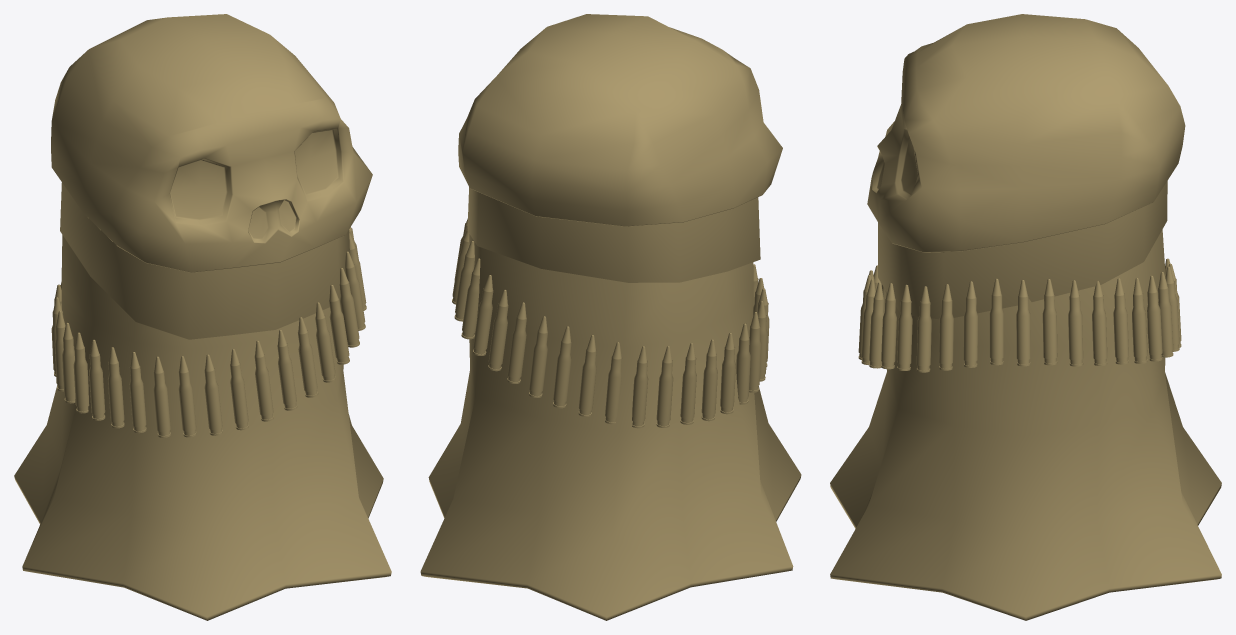
File: player_haunted.fbx
3 renders of one model, left to right at view 1: azimuth 30°, elevation 25°; view 2: azimuth 150°, elevation 25°; view 3: azimuth 270°, elevation 25°, orthographic.
Visible parts, largest first — view 1: polySurface6, Main_Body1, group2; view 2: Main_Body1, polySurface6, group2; view 3: Main_Body1, polySurface6, group2.
Boxes of the visible parts, bbox=[...] form: polySurface6: bbox=[51, 14, 372, 339]; Main_Body1: bbox=[14, 235, 391, 620]; group2: bbox=[51, 227, 366, 437]; Main_Body1: bbox=[420, 234, 801, 620]; polySurface6: bbox=[458, 14, 782, 282]; group2: bbox=[452, 218, 769, 428]; Main_Body1: bbox=[830, 229, 1221, 620]; polySurface6: bbox=[867, 14, 1185, 319]; group2: bbox=[858, 258, 1181, 372].
Bounding box in the file's own units: 105 × 136 × 97.21.
